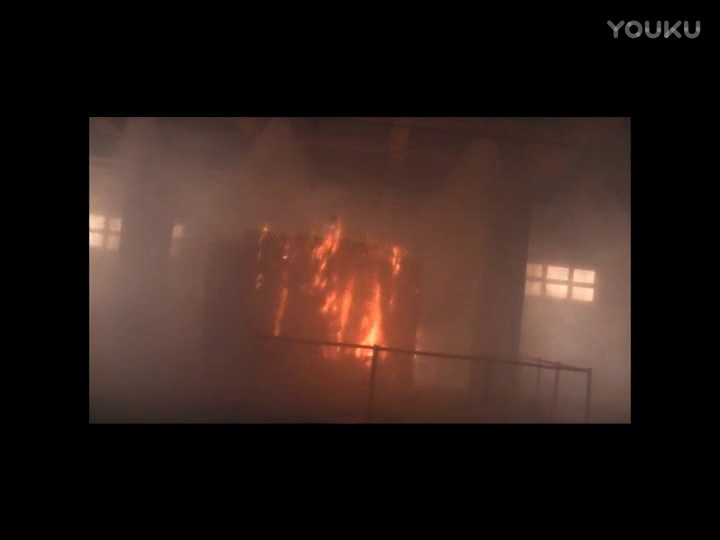fire: (352, 279, 387, 359)
